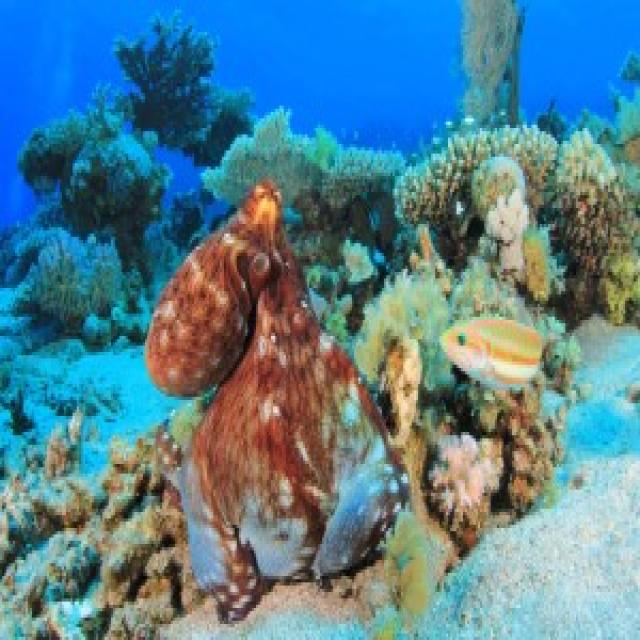Octo: (143, 178, 406, 614)
